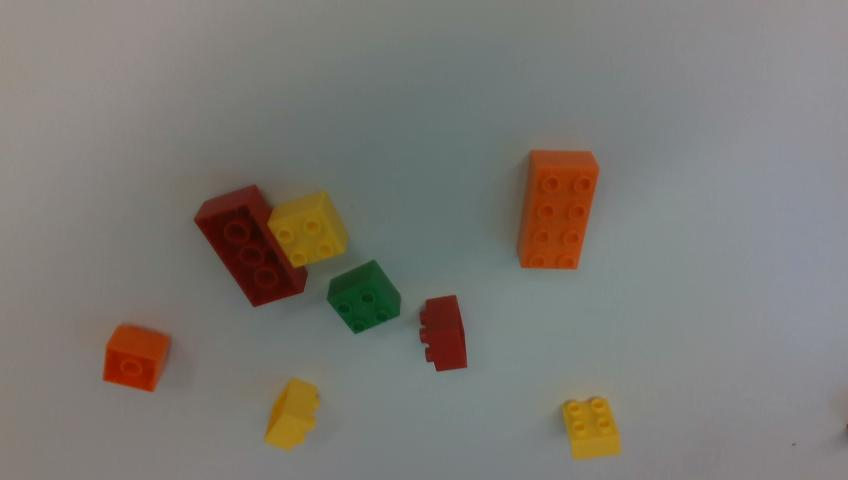2x2_green: (327, 260, 400, 333)
2x2_orange: (104, 325, 170, 391)
2x2_red: (419, 295, 465, 370)
2x2_yellow: (269, 192, 347, 266), (265, 379, 319, 449), (562, 397, 620, 459)
4x2_orange: (517, 150, 598, 269)
4x2_red: (195, 186, 306, 306)
